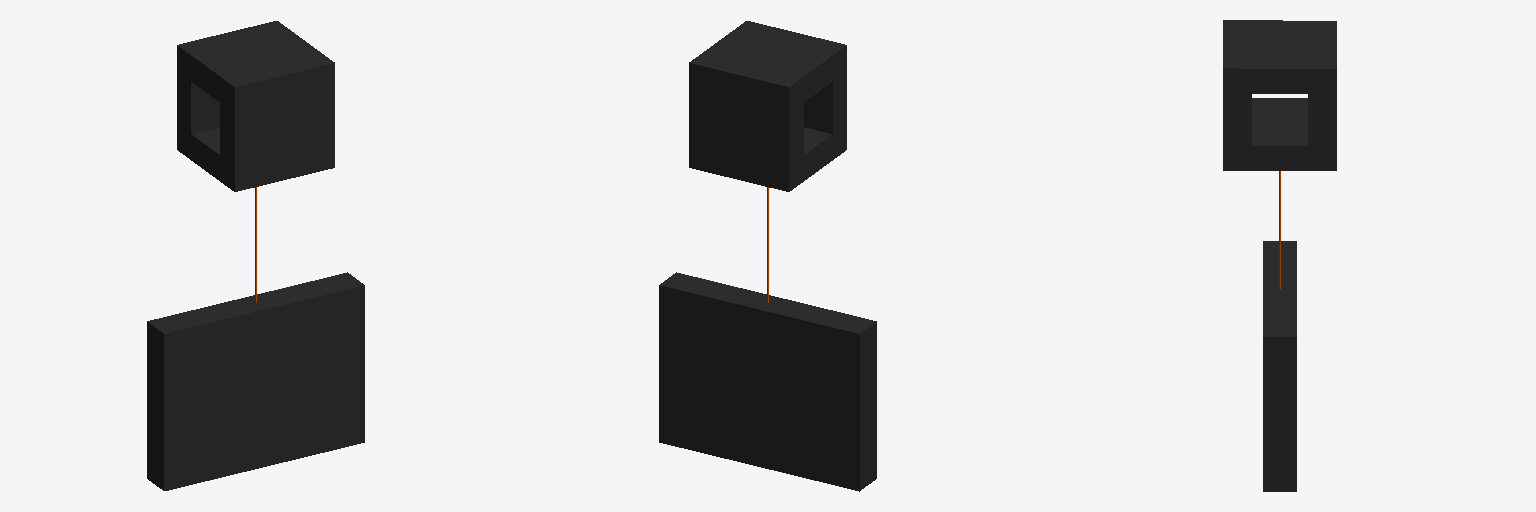
URDF robot description (cart_pole):
<?xml version="1.0" ?>
<robot name="cart_pole">


  <!-- Base -->
  <link name="base_link">
    <!-- <visual>
      <geometry>
        <mesh filename="../meshes/STL/base/structure.obj" scale="0.001 0.001 0.001"/>
      </geometry>
      <material name="blue">
        <color rgba="0.2 0.2 0.8 1.0"/>
      </material>
    </visual> -->
    <collision>
      <geometry>
        <mesh filename="../meshes/STL/base/structure.obj" scale="0.001 0.001 0.001"/>
      </geometry>
    </collision> 
    <inertial>
      <origin xyz="0 0 1.02"/>
      <mass value="6680"/>
      <inertia ixx="10732.34" ixy="0" ixz="0" iyy="16077.28" iyz="0" izz="8516.6"/>
    </inertial>
  </link>

  <!-- Cart -->
  <joint name="cart_joint" type="prismatic">
    <origin rpy="0 0 1.57" xyz="0 0 2.5"/>
    <parent link="base_link"/>
    <child link="cart_link"/>
    <limit effort="300000000" lower="-1.0" upper="1.0" velocity="30"/>
    <axis xyz="0 1 0"/>
  </joint>
  <link name="cart_link">
    <visual>
      <geometry>
        <mesh filename="../meshes/STL/cart/mycart.obj" scale="0.001 0.001 0.001"/>
      </geometry>
      <material name="dark_grey">
        <color rgba="0.2 0.2 0.2 1.0"/>
      </material>
    </visual>
    <collision>
      <geometry>
        <mesh filename="../meshes/STL/cart/mycart.obj" scale="0.001 0.001 0.001"/>
      </geometry>
    </collision>
    <inertial>
      <origin xyz="0 0 0"/>
      <mass value="370"/>
      <inertia ixx="11.09" ixy="0" ixz="0" iyy="12.32" iyz="0" izz="11.09"/>
    </inertial>
  </link>

  <!-- Links and Joints -->
  <joint name="joint1" type="continuous">
    <parent link="cart_link"/>
    <child link="link1"/>
    <origin rpy="0 -3.14159274 0" xyz="0 0 -0.2"/>
    <axis xyz="0 1 0"/>
  </joint>
  <transmission name="trans_1">
    <type>transmission_interface/SimpleTransmission</type>
    <joint name="joint1">
      <hardwareInterface>hardware_interface/EffortJointInterface</hardwareInterface>
    </joint>
    <actuator name="motor_1">
      <hardwareInterface>hardware_interface/EffortJointInterface</hardwareInterface>
      <mechanicalReduction>1</mechanicalReduction>
    </actuator>
  </transmission>
  <link name="link1">
    <inertial>
      <mass value="0.025"/>
      <inertia ixx="5.8083e-4" ixy="0" ixz="0" iyy="3.0833e-5" iyz="0" izz="5.9083e-4"/>
    </inertial>
  </link>

  <joint name="joint2" type="continuous">
    <parent link="link1"/>
    <child link="link2"/>
    <axis xyz="0 0 1"/>
    <origin rpy="0 0 0" xyz="0 0 0"/>
  </joint>
  <transmission name="trans_2">
    <type>transmission_interface/SimpleTransmission</type>
    <joint name="joint2">
      <hardwareInterface>hardware_interface/EffortJointInterface</hardwareInterface>
    </joint>
    <actuator name="motor_2">
      <hardwareInterface>hardware_interface/EffortJointInterface</hardwareInterface>
      <mechanicalReduction>1</mechanicalReduction>
    </actuator>
  </transmission>
  <link name="link2">
    <inertial>
      <mass value="0.025"/>
      <inertia ixx="5.8083e-4" ixy="0" ixz="0" iyy="3.0833e-5" iyz="0" izz="5.9083e-4"/>
    </inertial>
  </link>

  <joint name="joint3" type="continuous">
    <parent link="link2"/>
    <child link="bar0"/>
    <axis xyz="1 0 0"/>
    <origin rpy="0 0 0" xyz="0 0 0"/>
  </joint>
  <transmission name="trans_3">
    <type>transmission_interface/SimpleTransmission</type>
    <joint name="joint3">
      <hardwareInterface>hardware_interface/EffortJointInterface</hardwareInterface>
    </joint>
    <actuator name="motor_3">
      <hardwareInterface>hardware_interface/EffortJointInterface</hardwareInterface>
      <mechanicalReduction>1</mechanicalReduction>
    </actuator>
  </transmission>
  <link name="bar0">
    <visual>
      <origin rpy="0 0 0" xyz="0 0 0.025"/>
      <geometry>
        <cylinder length="0.05" radius="0.002"/>
      </geometry>
    </visual>
    <collision>
      <origin rpy="0 0 0" xyz="0 0 0.025"/>
      <geometry>
        <cylinder length="0.05" radius="0.002"/>
      </geometry>
    </collision>
    <inertial>
      <origin xyz="0 0 0.025"/>
      <mass value="4"/>
      <inertia ixx="0.00084" ixy="0" ixz="0" iyy="0.00084" iyz="0" izz="0.000008"/>
    </inertial>
  </link>

  <joint name="cable" type="prismatic">
    <parent link="bar0"/>
    <child link="bar"/>
    <axis xyz="0 0 1"/>
    <origin rpy="0 0 0" xyz="0 0 0.05"/>
    <limit effort="10000" lower="0" upper="2.0" velocity="10"/>
  </joint>
  <transmission name="trans_c">
    <type>transmission_interface/SimpleTransmission</type>
    <joint name="cable">
      <hardwareInterface>hardware_interface/PositionJointInterface</hardwareInterface>
    </joint>
    <actuator name="motor_c">
      <hardwareInterface>hardware_interface/PositionJointInterface</hardwareInterface>
      <mechanicalReduction>1</mechanicalReduction>
    </actuator>
  </transmission>
  <link name="bar">
    <visual>
      <origin rpy="0 0 0" xyz="0 0 0.25"/>
      <geometry>
        <cylinder length="0.5" radius="0.002"/>
      </geometry>
    </visual>
    <collision>
      <origin rpy="0 0 0" xyz="0 0 0.25"/>
      <geometry>
        <cylinder length="0.5" radius="0.002"/>
      </geometry>
    </collision>
    <inertial>
      <origin xyz="0 0 0.25"/>
      <mass value="4"/>
      <inertia ixx="0.084" ixy="0" ixz="0" iyy="0.084" iyz="0" izz="0.000008"/>
    </inertial>
  </link>

  <joint name="joint11" type="continuous">
    <origin rpy="0 0 0" xyz="0 0 0.5"/>
    <parent link="bar"/>
    <child link="link11"/>
    <axis xyz="0 1 0"/>
  </joint>
  <transmission name="trans_11">
    <type>transmission_interface/SimpleTransmission</type>
    <joint name="joint11">
      <hardwareInterface>hardware_interface/EffortJointInterface</hardwareInterface>
    </joint>
    <actuator name="motor_11">
      <hardwareInterface>hardware_interface/EffortJointInterface</hardwareInterface>
      <mechanicalReduction>1</mechanicalReduction>
    </actuator>
  </transmission>
  <link name="link11">
    <inertial>
      <mass value="0.025"/>
      <inertia ixx="5.8083e-4" ixy="0" ixz="0" iyy="3.0833e-5" iyz="0" izz="5.9083e-4"/>
    </inertial>
  </link>

  <joint name="joint22" type="continuous">
    <origin rpy="0 0 0" xyz="0 0 0"/>
    <parent link="link11"/>
    <child link="link22"/>
    <axis xyz="0 0 1"/>
  </joint>
  <transmission name="trans_22">
    <type>transmission_interface/SimpleTransmission</type>
    <joint name="joint22">
      <hardwareInterface>hardware_interface/EffortJointInterface</hardwareInterface>
    </joint>
    <actuator name="motor_22">
      <hardwareInterface>hardware_interface/EffortJointInterface</hardwareInterface>
      <mechanicalReduction>1</mechanicalReduction>
    </actuator>
  </transmission>
  <link name="link22">
    <inertial>
      <mass value="0.025"/>
      <inertia ixx="5.8083e-4" ixy="0" ixz="0" iyy="3.0833e-5" iyz="0" izz="5.9083e-4"/>
    </inertial>
  </link>

  <joint name="joint33" type="continuous">
    <origin rpy="0 0 0" xyz="0 0 0"/>
    <parent link="link22"/>
    <child link="payload"/>
    <axis xyz="1 0 0"/>
  </joint>
  <transmission name="trans_33">
    <type>transmission_interface/SimpleTransmission</type>
    <joint name="joint33">
      <hardwareInterface>hardware_interface/EffortJointInterface</hardwareInterface>
    </joint>
    <actuator name="motor_33">
      <hardwareInterface>hardware_interface/EffortJointInterface</hardwareInterface>
      <mechanicalReduction>1</mechanicalReduction>
    </actuator>
  </transmission>
  <link name="payload">
    <visual>
      <origin rpy="0 0 0" xyz="0 0 0.3"/>
      <geometry>
        <box size="0.12 0.8 0.6"/>
      </geometry>
      <material name="dark_grey">
        <color rgba="0.2 0.2 0.2 1.0"/>
      </material>
    </visual>
    <inertial>
      <mass value="70"/>
      <origin rpy="0 0 0" xyz="0 0 0.3"/>
      <inertia ixx="2.18" ixy="0" ixz="0" iyy="5.83" iyz="0" izz="3.82"/>
    </inertial>
    <collision>
      <origin rpy="0 0 0" xyz="0 0 0.3"/>
      <geometry>
        <box size="0.12 0.8 0.6"/>
      </geometry>
    </collision>
  </link>

  <gazebo reference="payload">
    <selfCollide>true</selfCollide>
    <mu1 value="1.2"/>
    <mu2 value="1.2"/>
  </gazebo>

  <transmission name="cart_trans">
    <type>transmission_interface/SimpleTransmission</type>
    <joint name="cart_joint">
      <hardwareInterface>hardware_interface/PositionJointInterface</hardwareInterface>
    </joint>
    <actuator name="cart_motor">
      <hardwareInterface>hardware_interface/PositionJointInterface</hardwareInterface>
      <mechanicalReduction>1</mechanicalReduction>
    </actuator>
  </transmission>

  <gazebo>
    <plugin filename="libgazebo_ros_control.so" name="gazebo_ros_control"/>
  </gazebo>
  <gazebo reference="base_link">
    <selfCollide>false</selfCollide>
    <mu1 value="0.05"/>
    <mu2 value="0.05"/>
  </gazebo>
  <gazebo reference="cart_link">
    <selfCollide>false</selfCollide>
    <mu1 value="1.2"/>
    <mu2 value="1.2"/>
  </gazebo>

</robot>

--- Facts derived from the render (not from the file) ---
Views: 3 orthographic renders of the robot side by side, from view 1: azimuth 30°, elevation 25°; view 2: azimuth 150°, elevation 25°; view 3: azimuth 270°, elevation 25°.
Model cart_pole with 9 links and 8 joints (6 continuous, 2 prismatic), rooted at base_link, posed every joint at zero.
Links seen in each view (by area): view 1: payload, cart_link; view 2: payload, cart_link; view 3: cart_link, payload.
Link boxes in pixels (<box>): payload: <box>147,272,364,490</box>; cart_link: <box>177,21,334,191</box>; payload: <box>659,272,876,491</box>; cart_link: <box>689,21,846,191</box>; cart_link: <box>1223,20,1336,170</box>; payload: <box>1263,241,1296,491</box>.
Size in the robot's own frame: 0.8001 by 0.4003 by 1.55 metres.
Meshes: 1 distinct files referenced, 1 mesh visuals loaded (1 OBJ).
